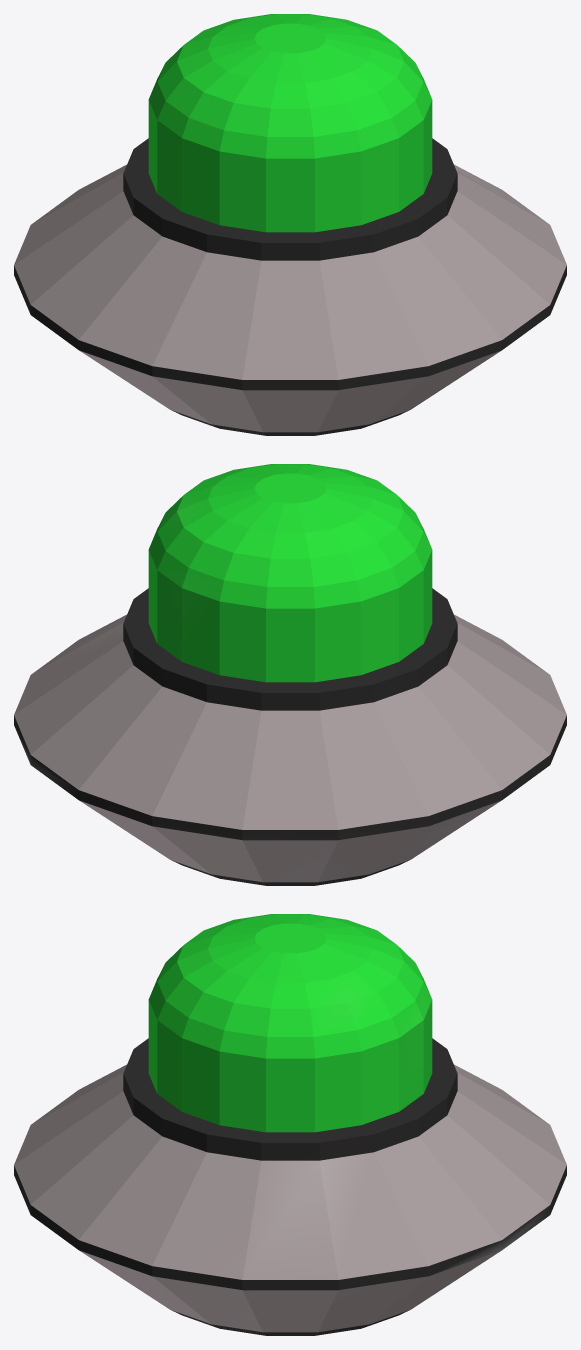
File: mini_ovni.fbx
3 renders of one model, top to bottom at view 1: azimuth 30°, elevation 25°; view 2: azimuth 150°, elevation 25°; view 3: azimuth 270°, elevation 25°, orthographic.
Visible parts, largest first — view 1: mini_ovni; view 2: mini_ovni; view 3: mini_ovni.
Boxes of the visible parts, left/top/right/bottom form: mini_ovni: left=14, top=14, right=566, bottom=435; mini_ovni: left=14, top=464, right=566, bottom=885; mini_ovni: left=14, top=914, right=566, bottom=1335.
Size of the model in its own units: 354 by 251 by 359.
